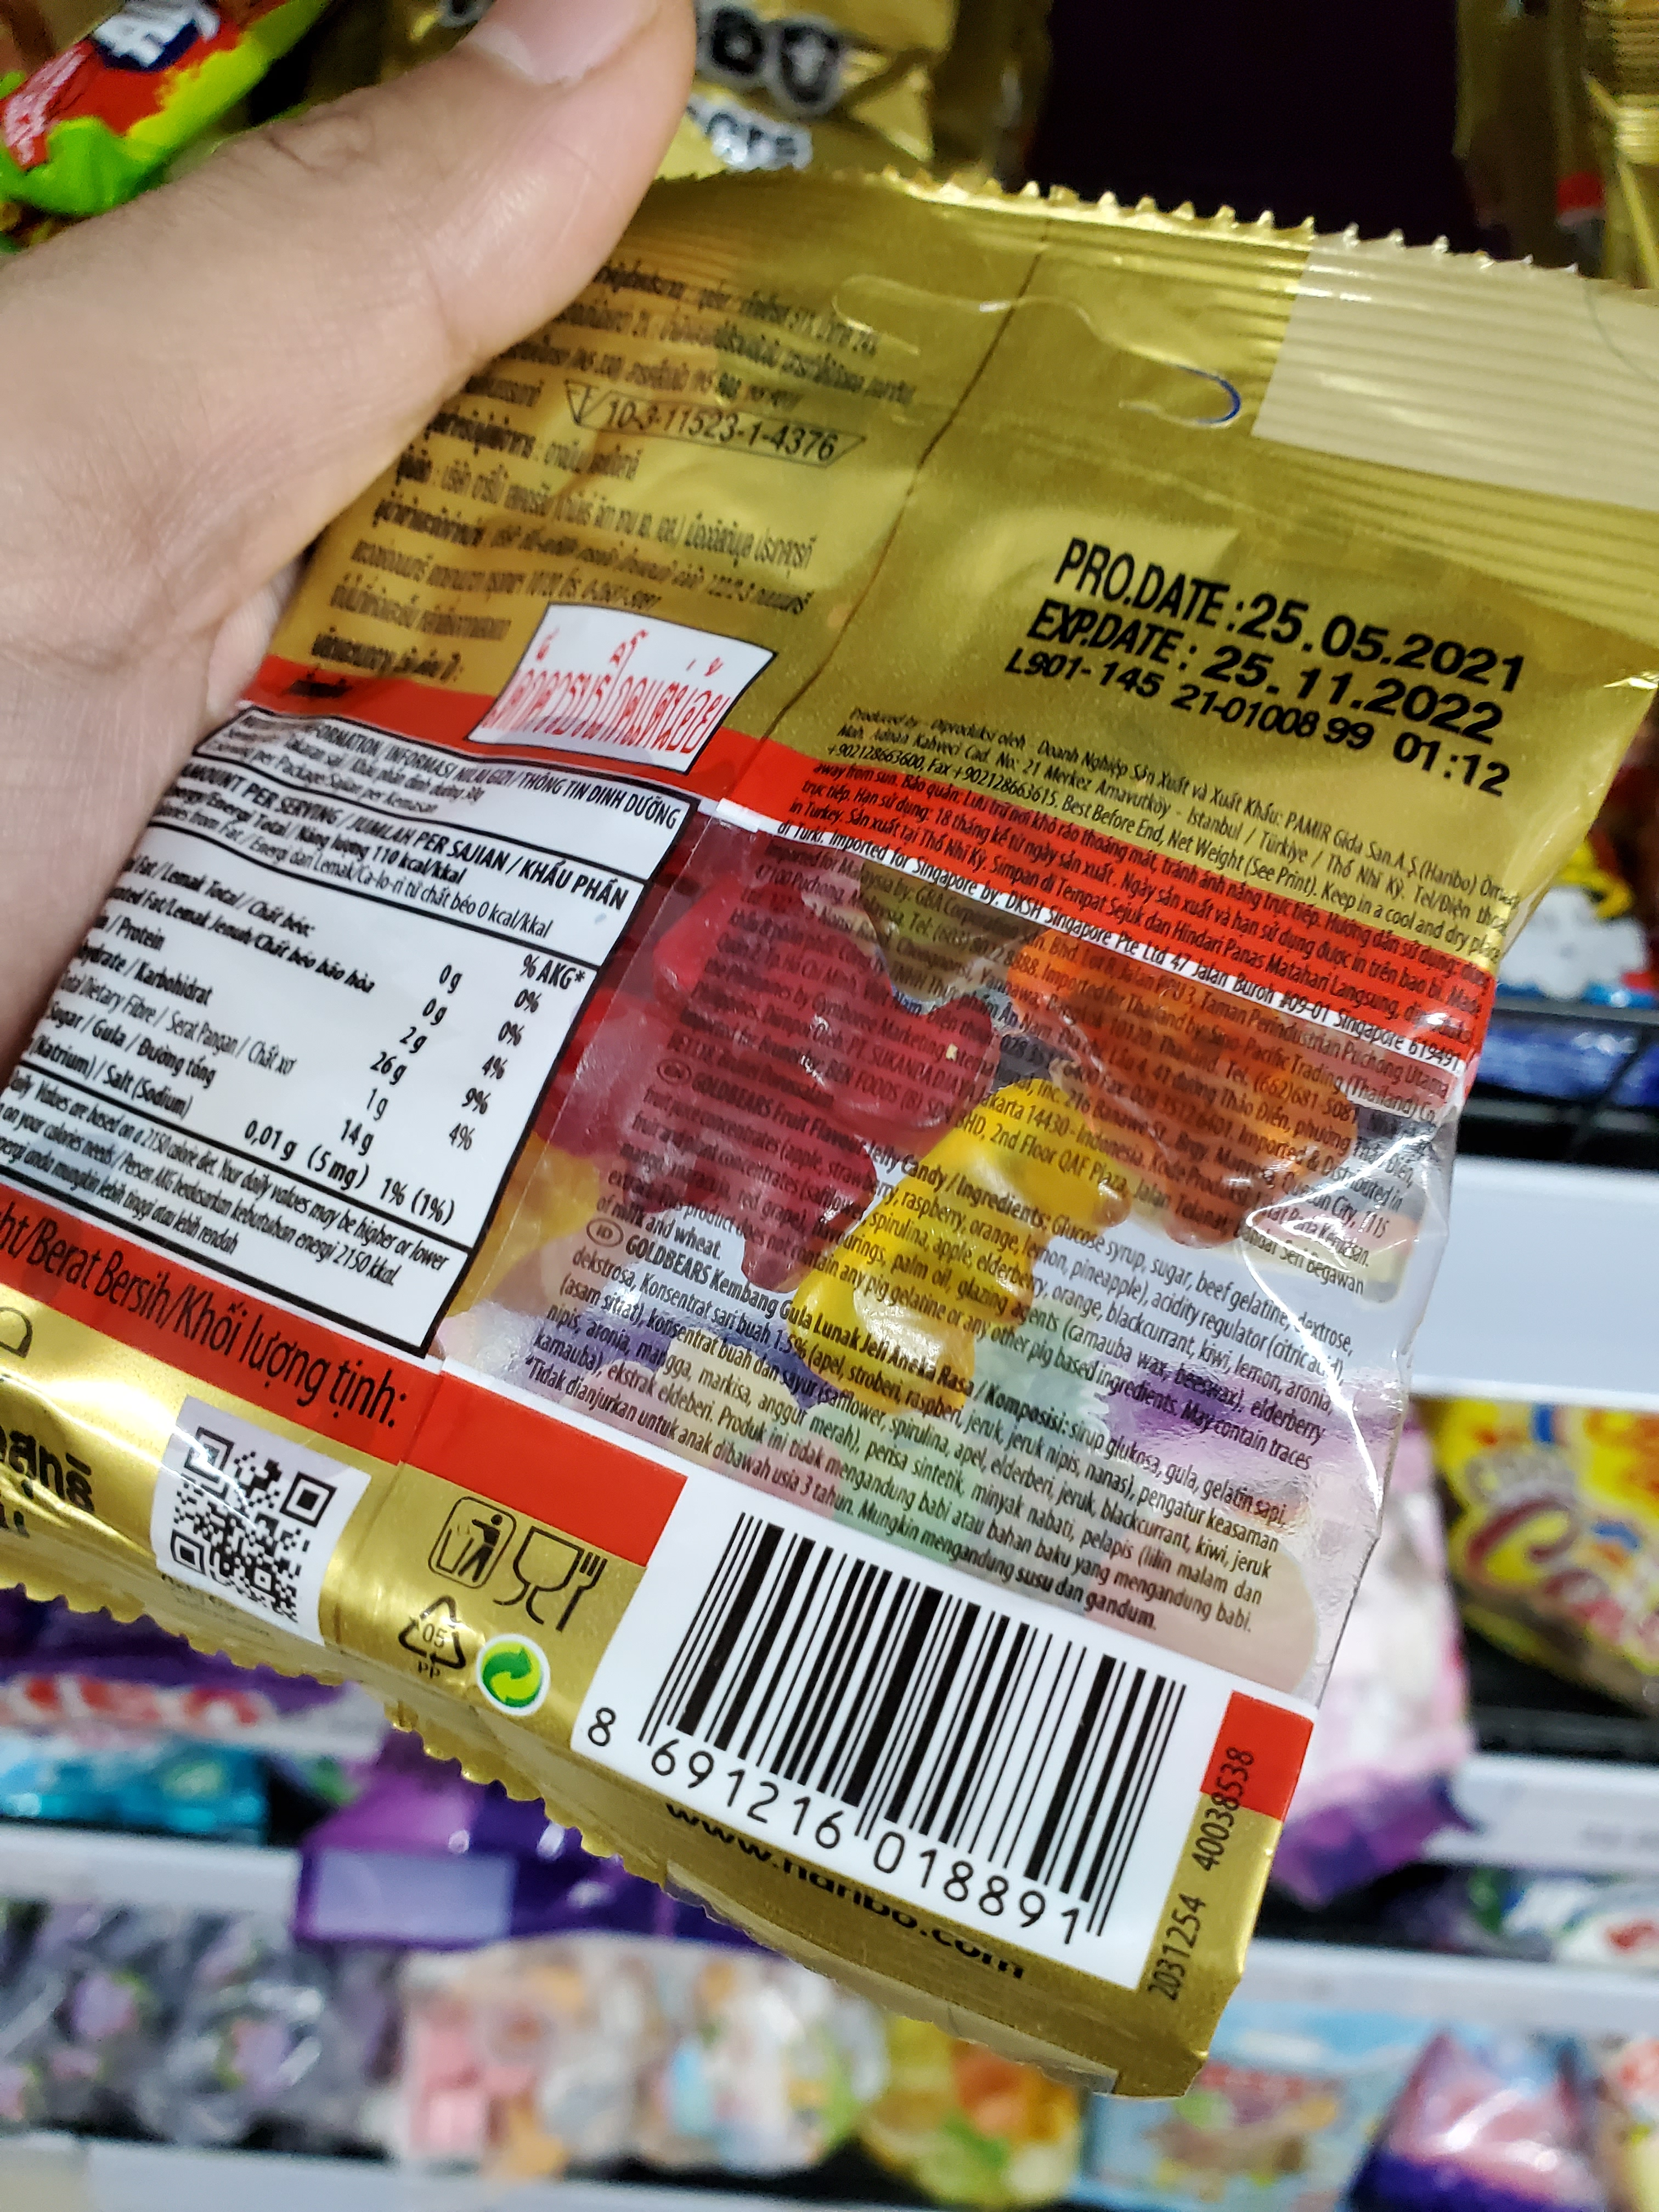barcode: (572, 1494, 1202, 1986)
qr code: (115, 1413, 347, 1655)
